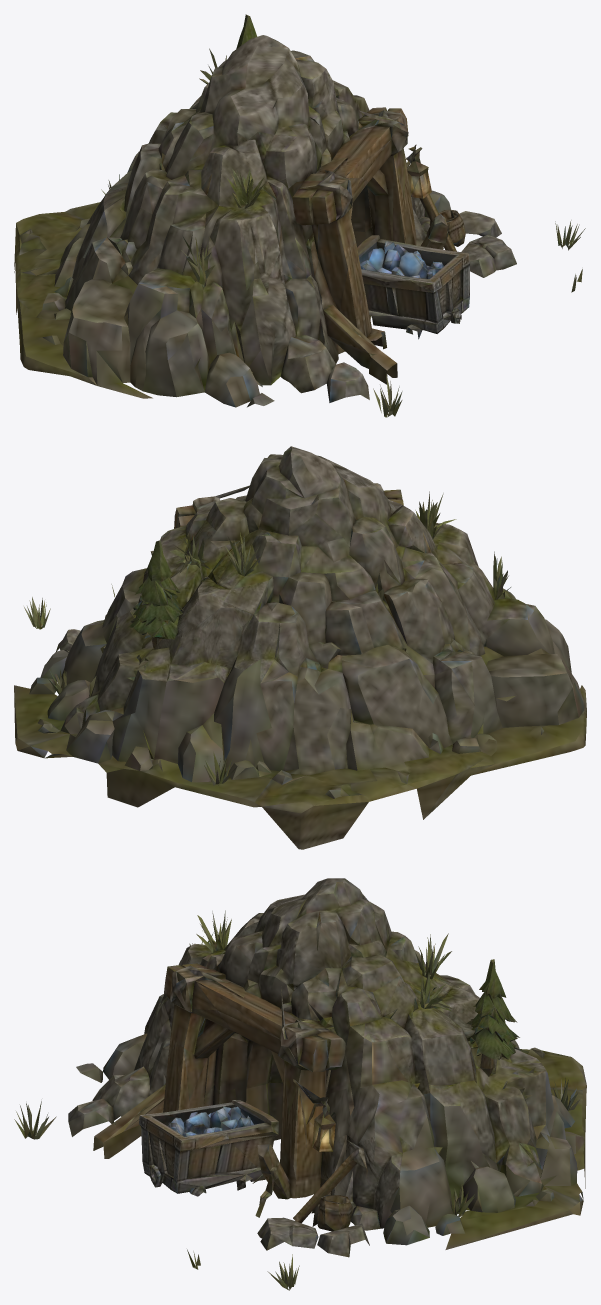
Rendered from mine.glb.
The picture shows the model from 3 angles, top to bottom: view 1: azimuth 30°, elevation 25°; view 2: azimuth 150°, elevation 25°; view 3: azimuth 270°, elevation 25°; orthographic projection. The views are drawn at different scales.
Bounding box in the file's own units: 2.31 × 1.11 × 2.02.
Materials: 1 (1 with a texture image).
